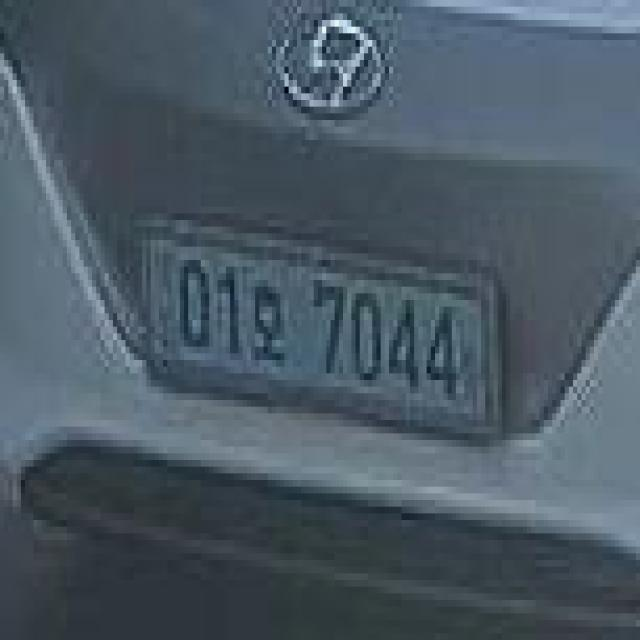EV_plate: (138, 215, 505, 452)
